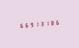eight: (47, 19, 51, 26)
nine: (27, 21, 31, 28)
one: (32, 20, 36, 28), (42, 19, 46, 27)
six: (17, 21, 21, 29), (22, 21, 26, 29), (52, 18, 56, 26)
three: (37, 20, 41, 27)
